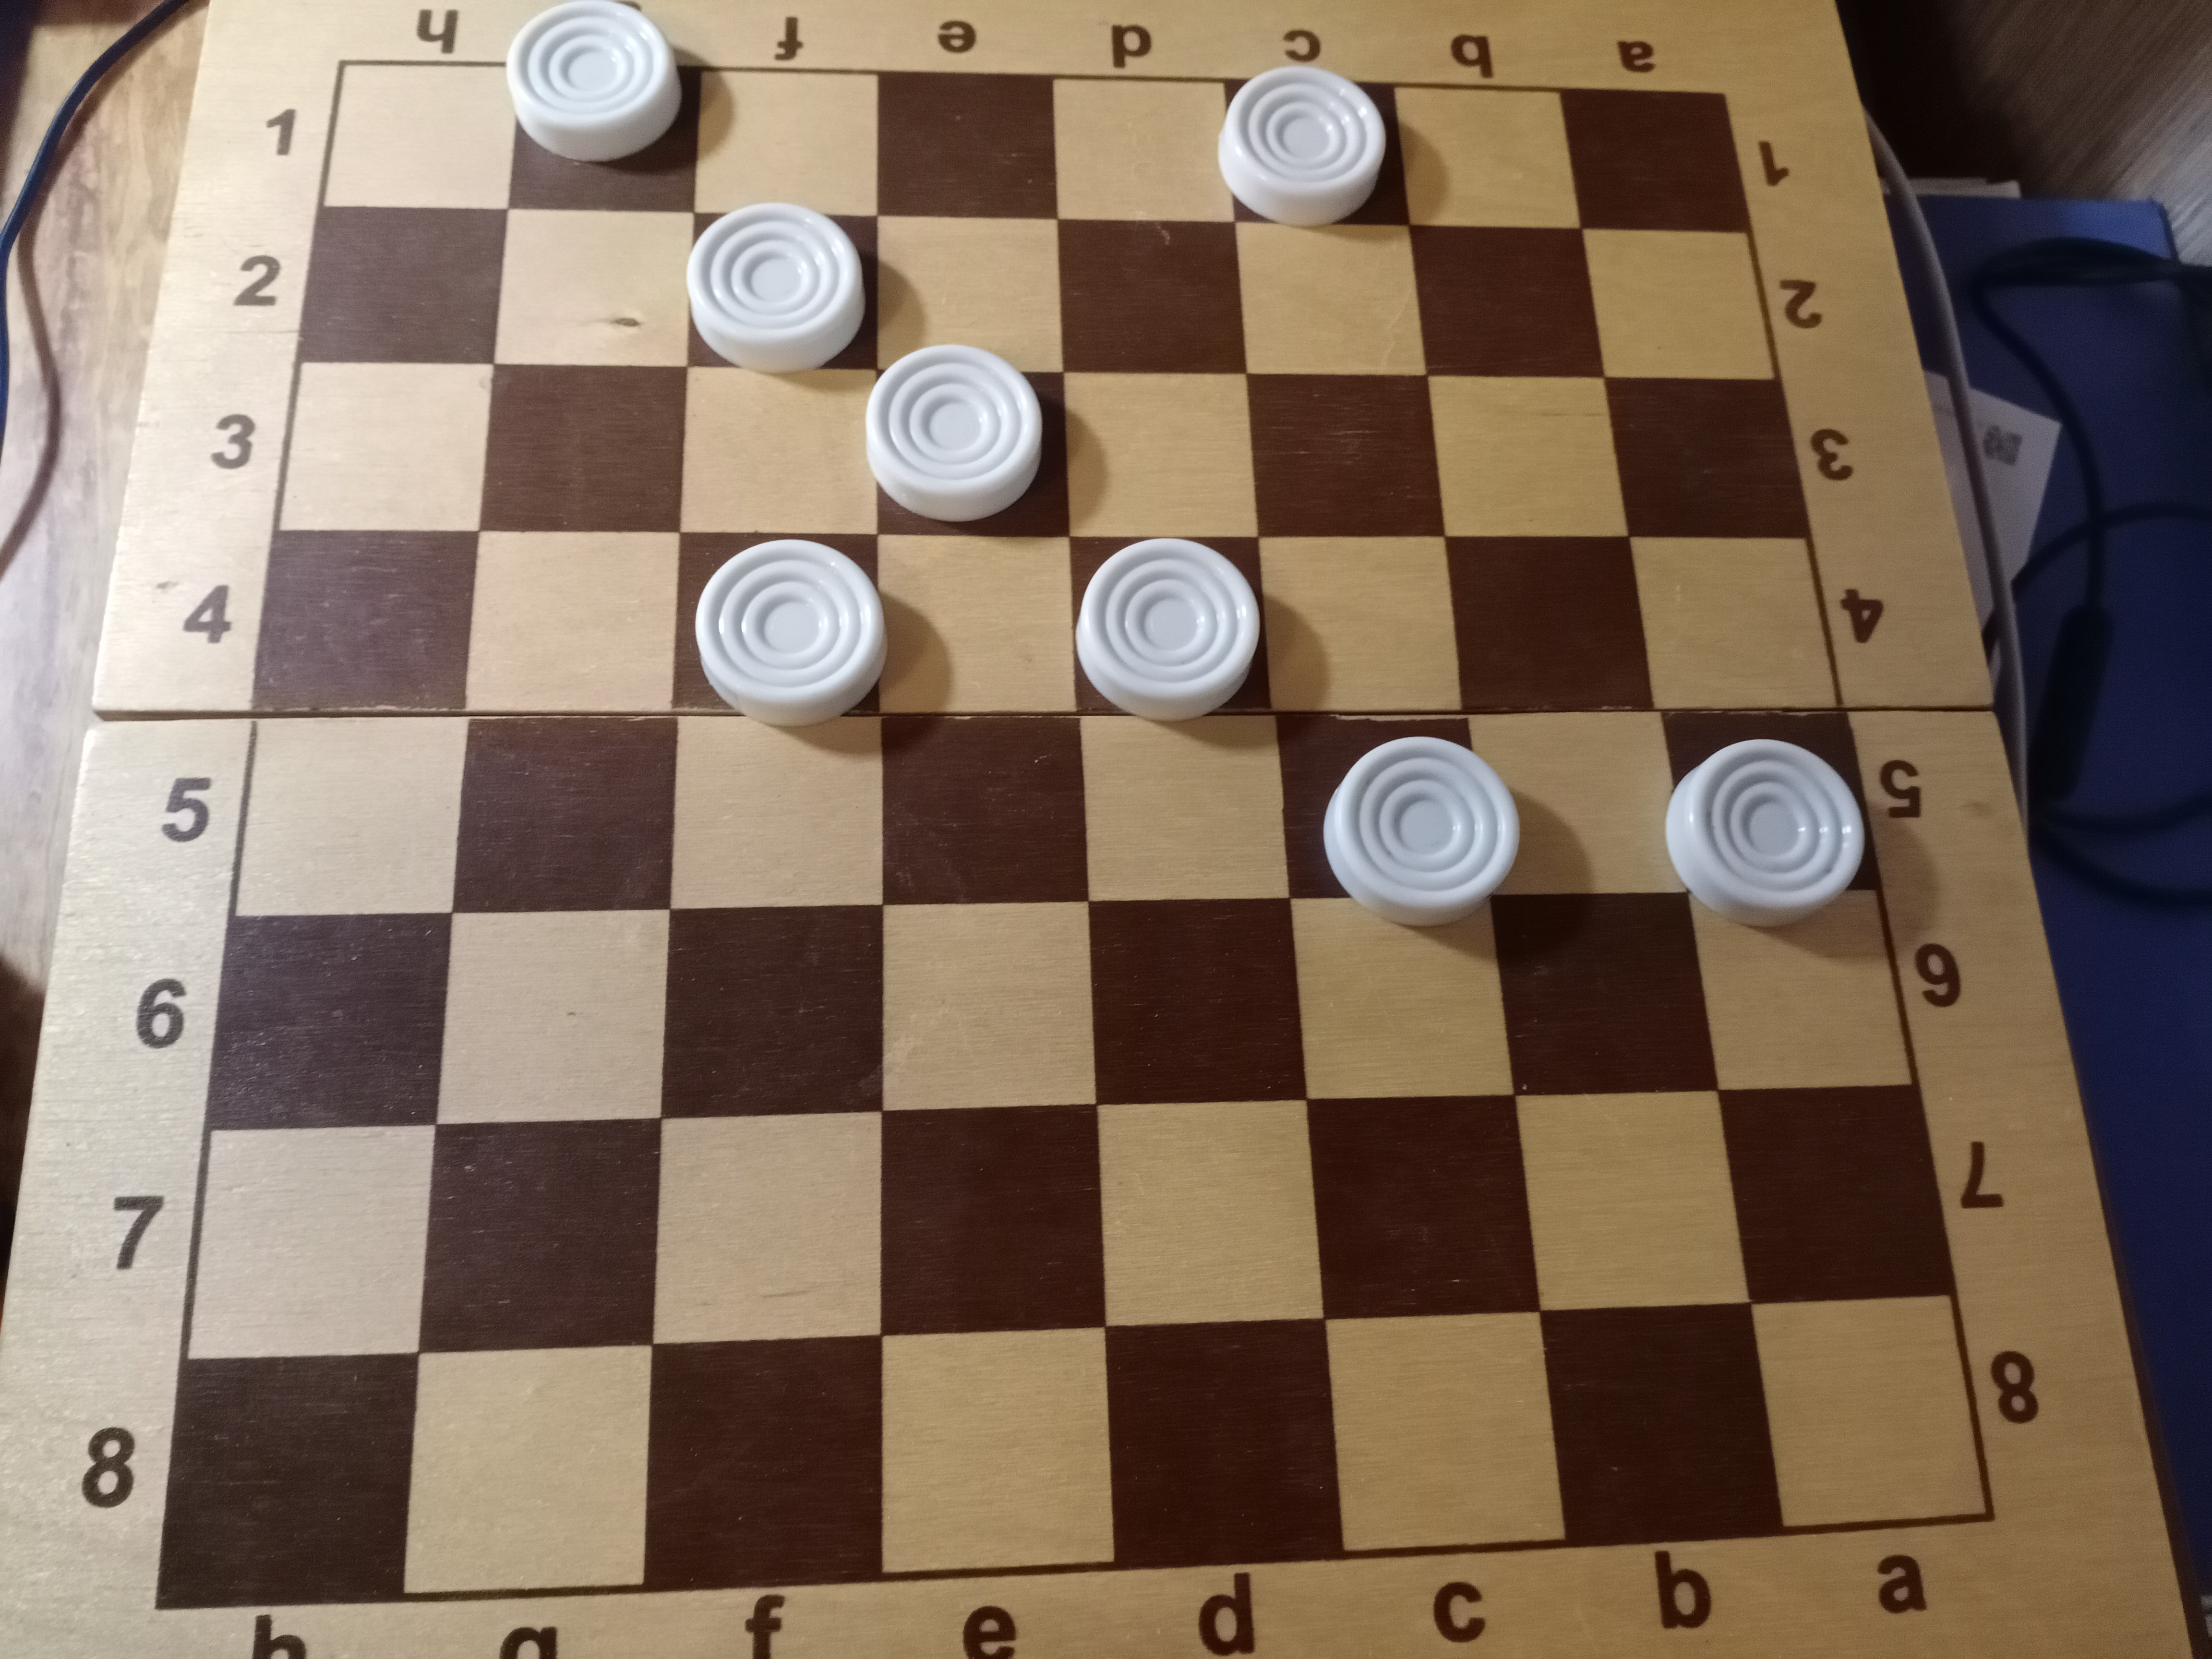White_Draught: (1271, 718, 1522, 927), (1662, 713, 1881, 927), (672, 533, 887, 728), (507, 0, 700, 211), (864, 345, 1069, 540), (1066, 537, 1271, 723), (685, 202, 878, 375), (1219, 64, 1411, 230)
